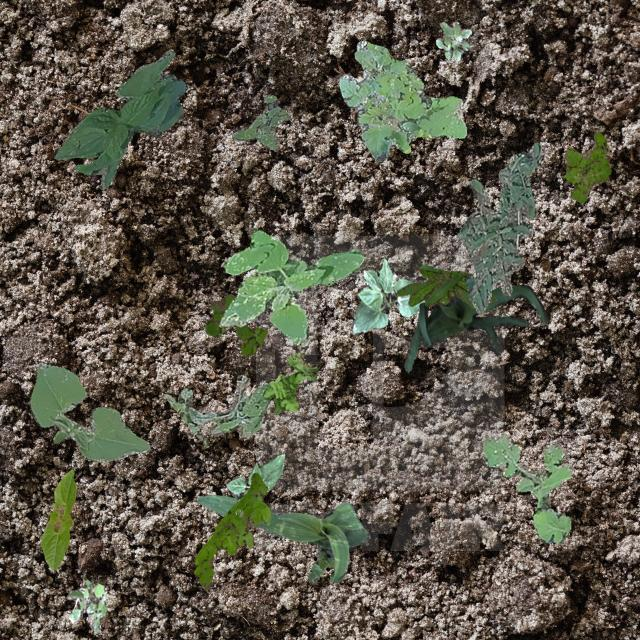crop: (54, 49, 186, 188), (195, 493, 368, 582), (402, 283, 546, 372), (29, 362, 150, 462), (349, 256, 424, 334), (40, 468, 76, 568), (225, 454, 283, 499)
weed: (218, 230, 364, 346), (338, 40, 466, 160), (458, 142, 540, 312), (482, 432, 570, 542), (192, 472, 268, 588), (162, 374, 268, 439), (396, 264, 496, 308), (204, 292, 266, 354), (262, 350, 318, 412), (562, 130, 610, 202), (232, 94, 290, 150), (66, 578, 106, 632), (434, 20, 472, 60)
